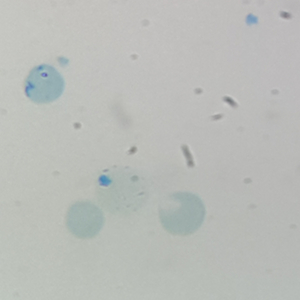aggregate reticulocyte: (22, 62, 66, 106)
erythrocyte: (157, 190, 207, 237), (64, 200, 106, 240)
